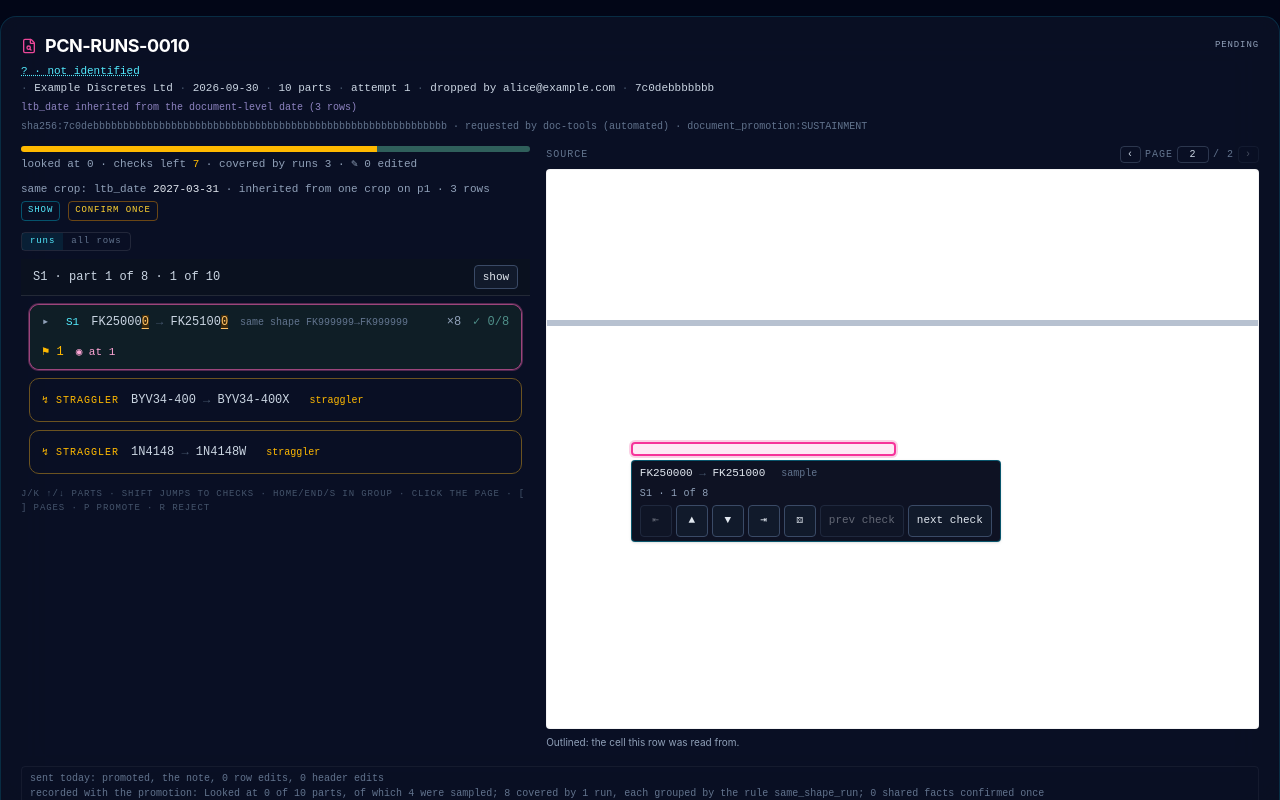
Test: runs › opening the run lists its members with the same highlight; the stragglers are marked, a doubt is a flag
(page scrolled)
Check: the element showing "looked at 0 · checks left 7 · covered by runs 3 · ✎ 0 edited" is shown, box x1=21 y1=146 x2=530 y2=172
What coordinates should you click on to do the following:
click the button that starts with "same shape"
I would click on:
 (273, 322)
Its box is x1=30 y1=305 x2=521 y2=369.
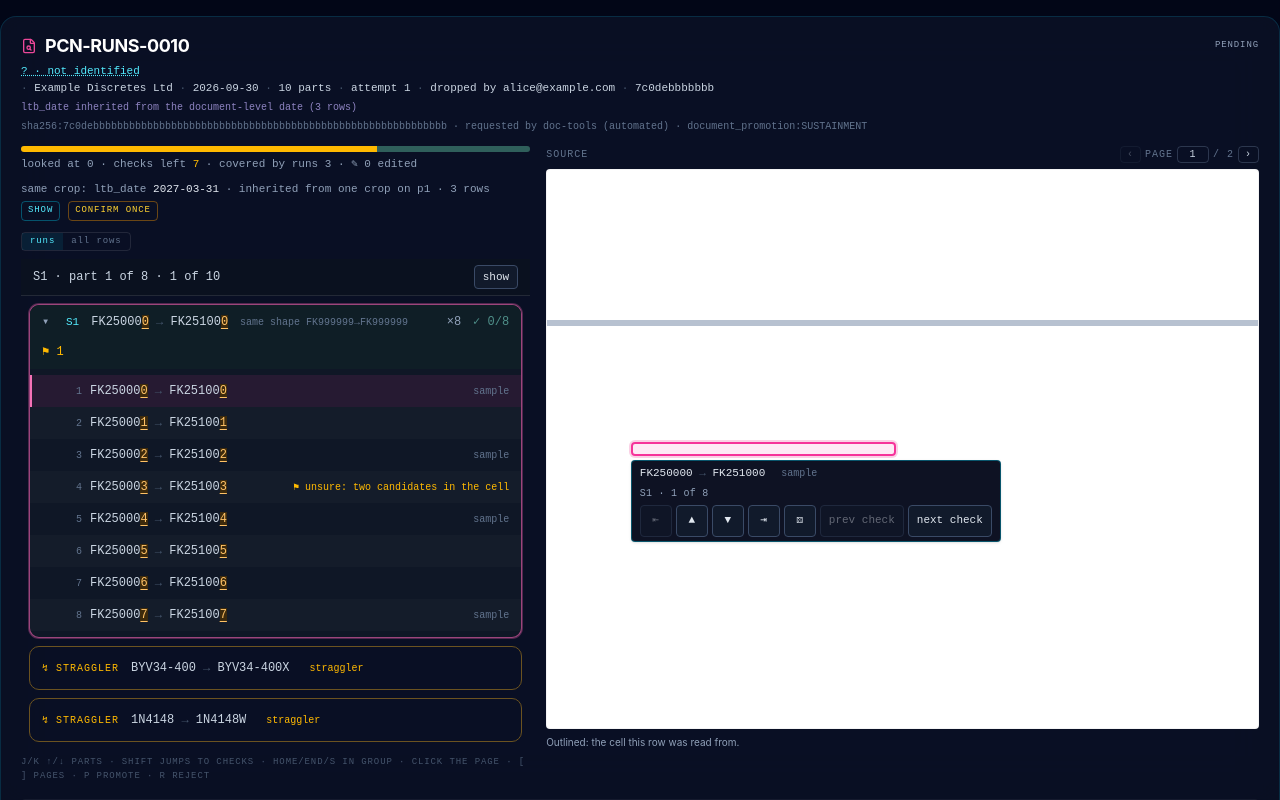
Check: the number of options is 10
Check: the text "5" is shown, box x1=140 y1=544 x2=148 y2=558
Check: the option "4 FK250003 → FK251003 ⚑ unsure: two candidates in the cell" is shown, box x1=30 y1=471 x2=521 y2=503
